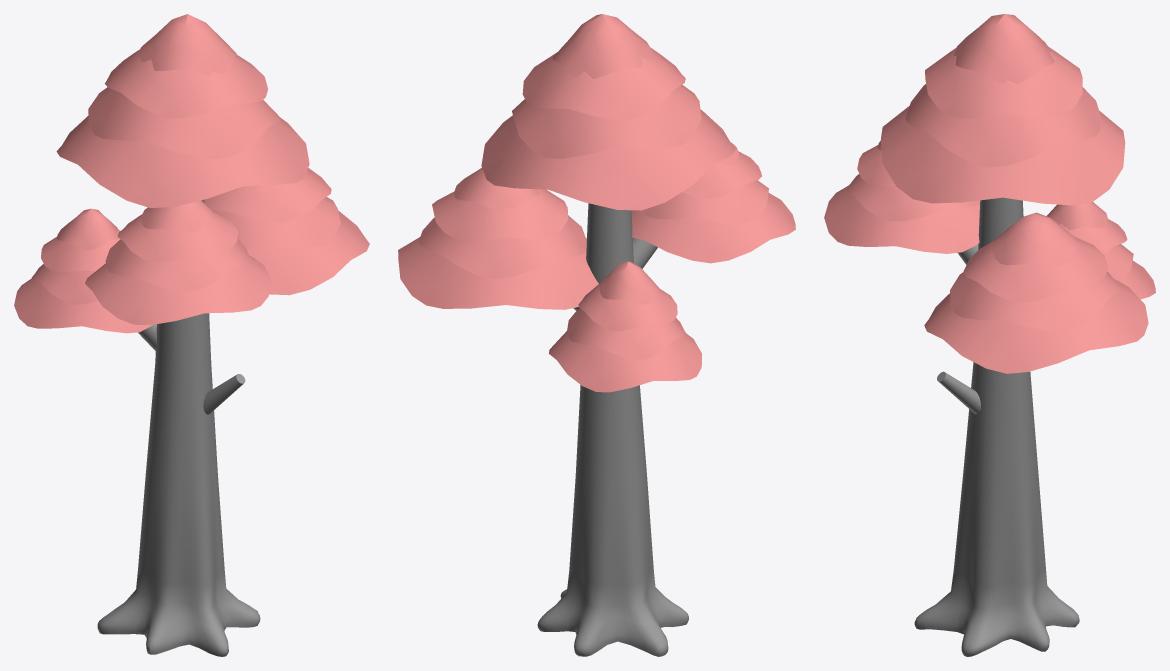
The model's file is PineTreeTallAutumn.fbx.
3 renders of one model, left to right at view 1: azimuth 30°, elevation 25°; view 2: azimuth 150°, elevation 25°; view 3: azimuth 270°, elevation 25°, orthographic.
Parts seen in each view (by area): view 1: SM_Pine02; view 2: SM_Pine02; view 3: SM_Pine02.
Boxes of the visible parts, x1,y1,x2,y2 form: SM_Pine02: [14, 14, 369, 656]; SM_Pine02: [398, 14, 795, 656]; SM_Pine02: [824, 14, 1155, 656].
Size of the model in its own units: 355 by 653 by 318.
